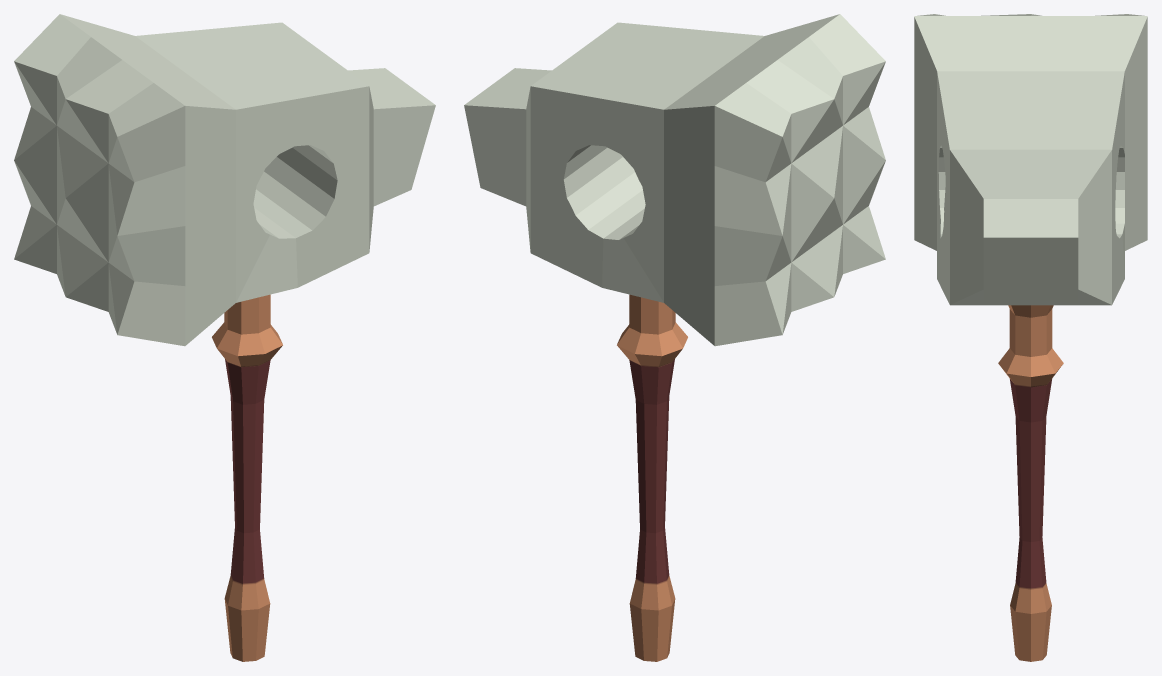
The model's file is Hammer.fbx.
3 views of the same model, side by side, from view 1: azimuth 30°, elevation 25°; view 2: azimuth 150°, elevation 25°; view 3: azimuth 270°, elevation 25° (orthographic). The views are drawn at different scales.
Parts seen in each view (by area): view 1: Cube; view 2: Cube; view 3: Cube.
Part boxes in pixels (x1,y1,x2,y2): Cube: (14, 14, 435, 661); Cube: (464, 14, 885, 661); Cube: (914, 14, 1147, 661).
Size of the model in its own units: 270 by 468 by 170.
